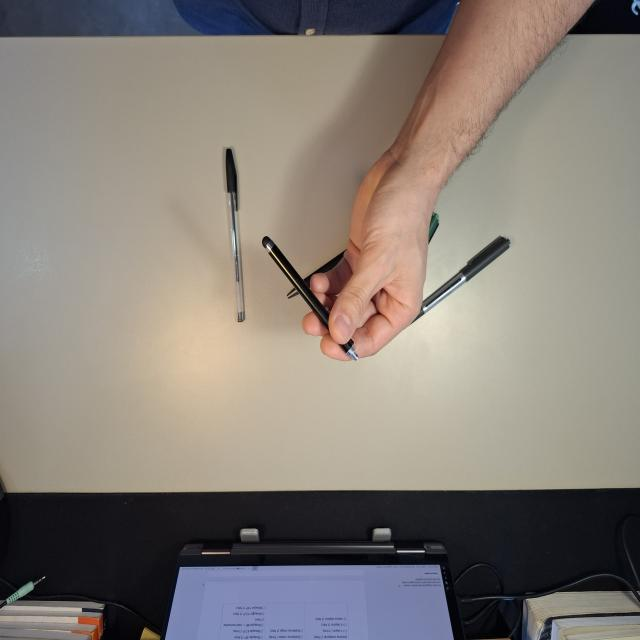glove_off: (300, 149, 449, 364)
